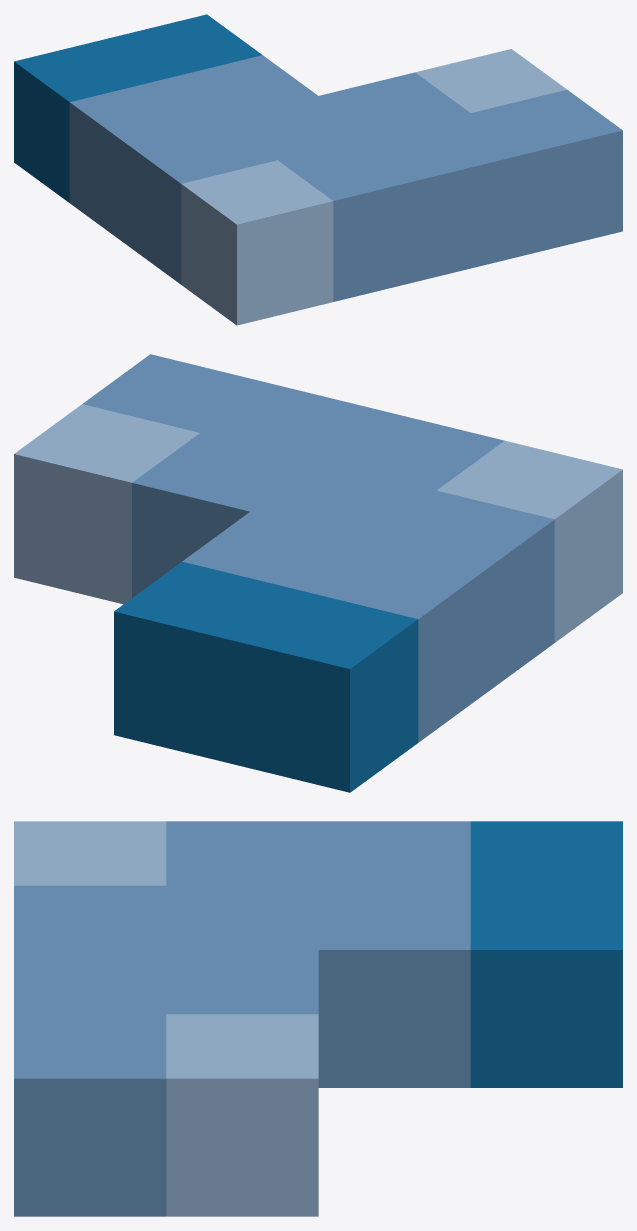
Rendered from Sock01.gltf.
The picture shows the model from 3 angles, top to bottom: view 1: azimuth 30°, elevation 25°; view 2: azimuth 150°, elevation 25°; view 3: azimuth 270°, elevation 25°; orthographic projection. The views are drawn at different scales.
Bounding box in the file's own units: 4 × 1 × 4.
